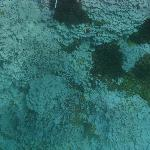dead: (1, 2, 144, 145)
